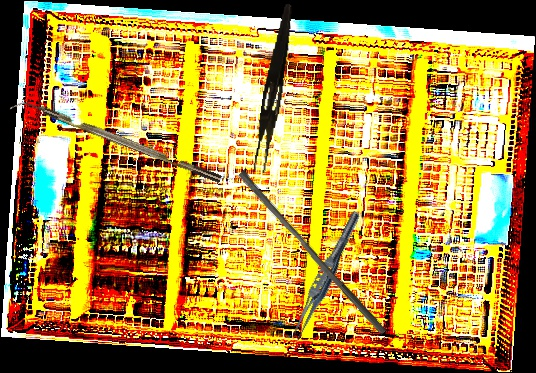Chopper: (9, 92, 222, 194)
Dressing Forceps: (252, 2, 295, 175)
Pusher: (231, 169, 394, 336)
Tissue Forceps: (286, 207, 364, 347)
